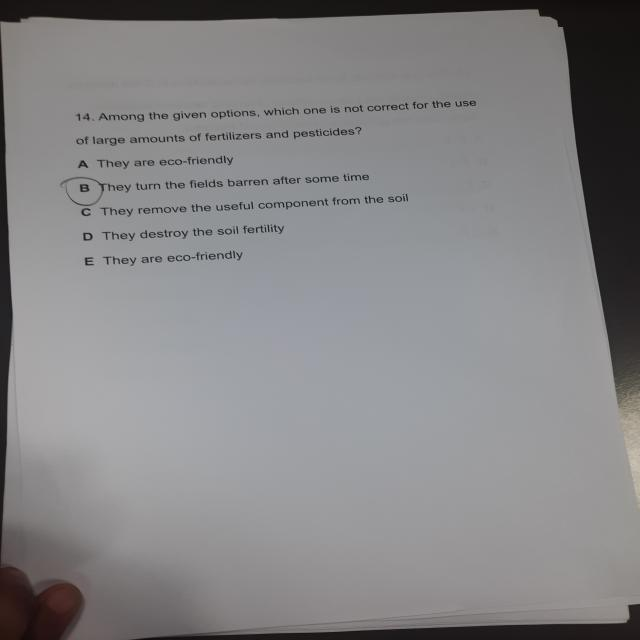B: (63, 176, 111, 208)
